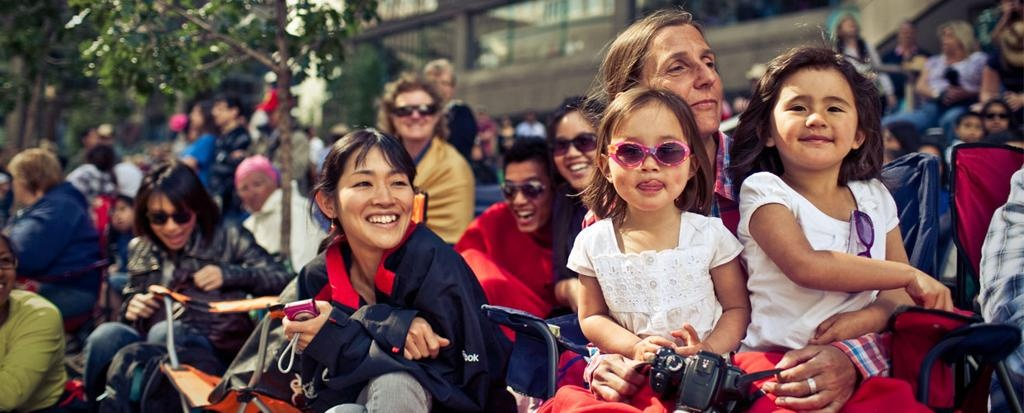human_face: (770, 64, 860, 168), (607, 104, 691, 212), (640, 24, 722, 132), (336, 154, 416, 249), (552, 114, 610, 190), (504, 160, 554, 232), (148, 192, 196, 250), (392, 90, 438, 138), (237, 172, 271, 206), (0, 238, 15, 300), (428, 71, 454, 99), (918, 146, 940, 178), (984, 106, 1010, 130), (880, 131, 898, 163), (210, 101, 232, 125), (112, 203, 132, 229), (962, 117, 984, 140), (942, 28, 960, 52), (188, 106, 202, 126), (840, 19, 858, 34), (898, 25, 912, 43), (267, 108, 281, 123), (85, 132, 99, 146), (479, 109, 485, 119), (526, 112, 534, 119), (502, 119, 506, 123)
